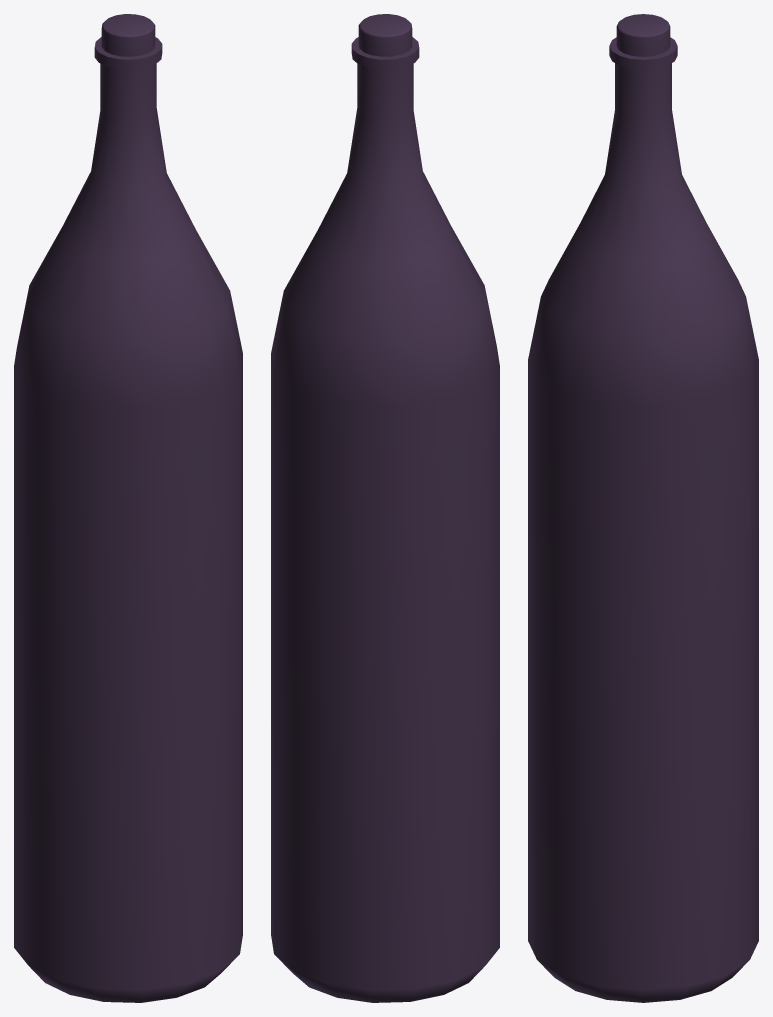
Rendered from wine bottle.fbx.
The picture shows the model from 3 angles, left to right: view 1: azimuth 30°, elevation 25°; view 2: azimuth 150°, elevation 25°; view 3: azimuth 270°, elevation 25°; orthographic projection.
Visible parts, largest first — view 1: pCylinder5; view 2: pCylinder5; view 3: pCylinder5.
Part boxes in pixels (x1,y1,x2,y2): pCylinder5: (14,14,242,1002); pCylinder5: (271,14,499,1002); pCylinder5: (528,14,758,1002).
Bounding box in the file's own units: 12.24 × 54.89 × 12.24.
